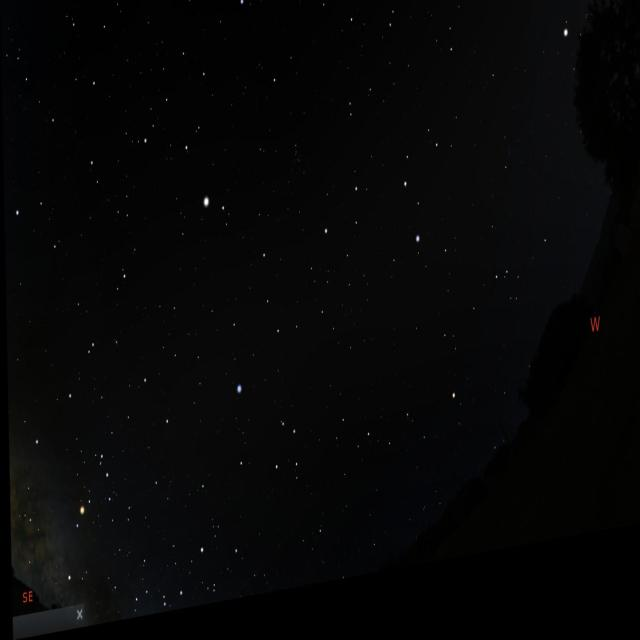bootes: (152, 24, 234, 232)
leo: (317, 99, 466, 290)
scorpius: (29, 438, 125, 597)
